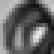correct: (4, 1, 54, 54)
